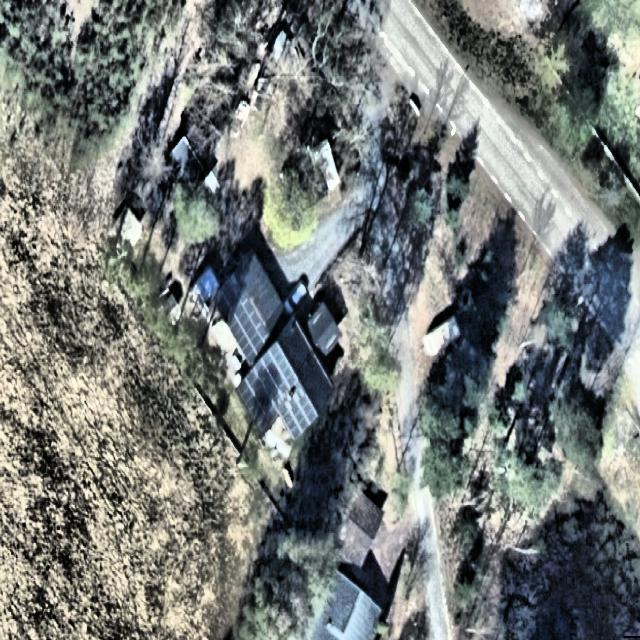roof_pv: (246, 347, 317, 431), (226, 284, 268, 363)
